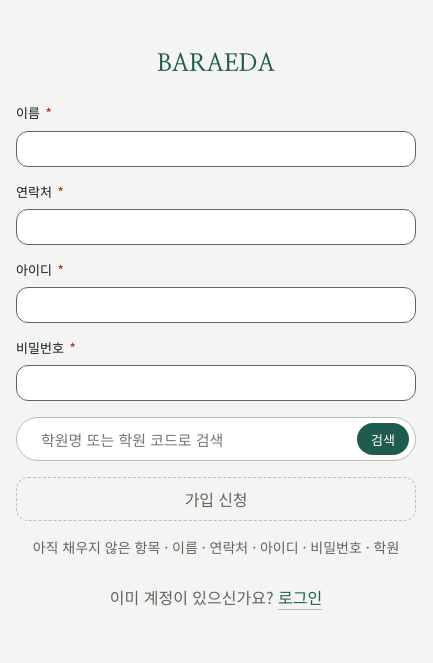
Test: SignupForm › 학원 검색이 실패하면 오류 문구를 보여준다
Type "학원" into the field with placeholder "학원명 또는 학원 코드로 검색" at [194, 439], box [39,428,349,451]
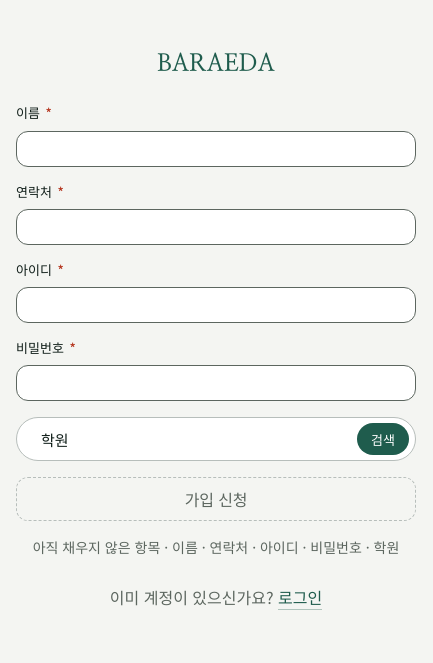
Click the button "검색" at [383, 439], box [357,423,409,455]
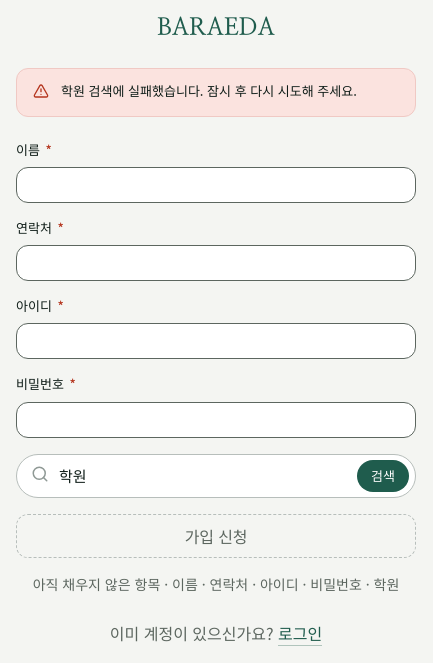
Expected: the text "학원 검색에 실패했습니다. 잠시 후 다시 시도해 주세요." is shown, [61,81,399,100]
